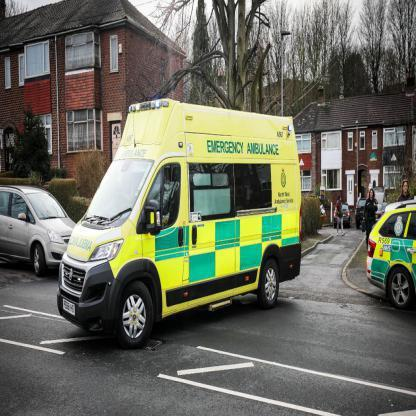Ambulance - v1 Ambulance last generate: (51, 98, 306, 352), (362, 194, 415, 311)
